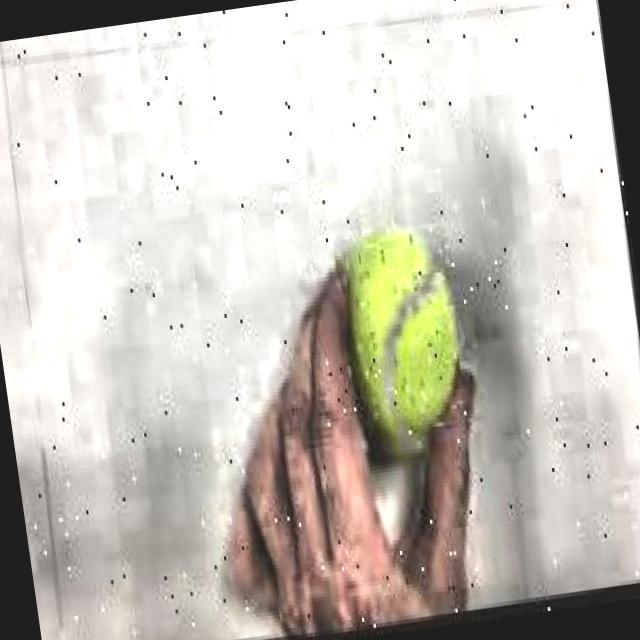Tennis Ball: (327, 223, 480, 470)
